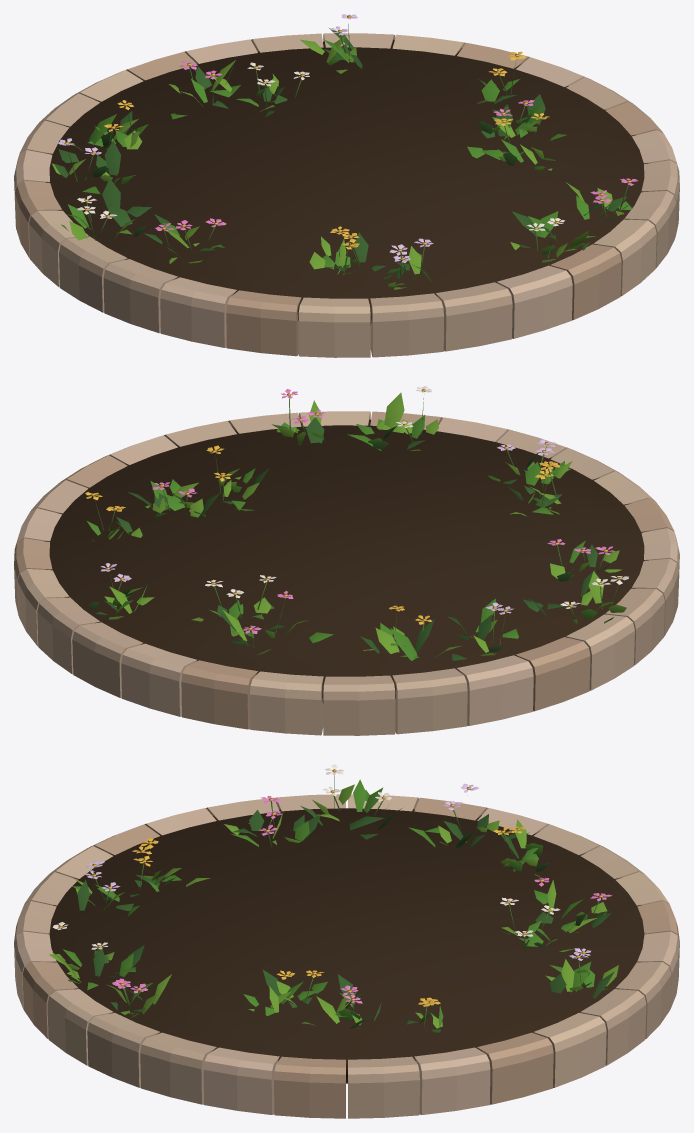
File: planter.glb
3 views of the same model, one above another, from view 1: azimuth 30°, elevation 25°; view 2: azimuth 150°, elevation 25°; view 3: azimuth 270°, elevation 25° (orthographic).
Parts seen in each view (by area): view 1: Topsoil filled planter, Individually bevelled sandstone voussoir, Broad-leaved groundcover, Individual flower petals, Slender flower stem; view 2: Topsoil filled planter, Individually bevelled sandstone voussoir, Broad-leaved groundcover, Individual flower petals, Slender flower stem; view 3: Topsoil filled planter, Individually bevelled sandstone voussoir, Broad-leaved groundcover, Individual flower petals, Slender flower stem.
Boxes of the visible parts, box(x1,y1,x2,y2) form: Topsoil filled planter: box(45, 39, 649, 325); Individually bevelled sandstone voussoir: box(14, 33, 679, 357); Broad-leaved groundcover: box(52, 28, 631, 289); Individual flower petals: box(58, 14, 638, 262); Slender flower stem: box(68, 24, 628, 281); Topsoil filled planter: box(44, 419, 648, 703); Individually bevelled sandstone voussoir: box(14, 411, 679, 735); Broad-leaved groundcover: box(87, 392, 626, 660); Individual flower petals: box(85, 386, 628, 633); Slender flower stem: box(95, 398, 618, 650); Topsoil filled planter: box(48, 808, 644, 1083); Individually bevelled sandstone voussoir: box(14, 794, 679, 1118); Broad-leaved groundcover: box(49, 779, 618, 1032); Individual flower petals: box(52, 764, 612, 1006); Slender flower stem: box(70, 775, 599, 1031).
Size of the model in its own units: 2.15 by 0.3219 by 2.15.
